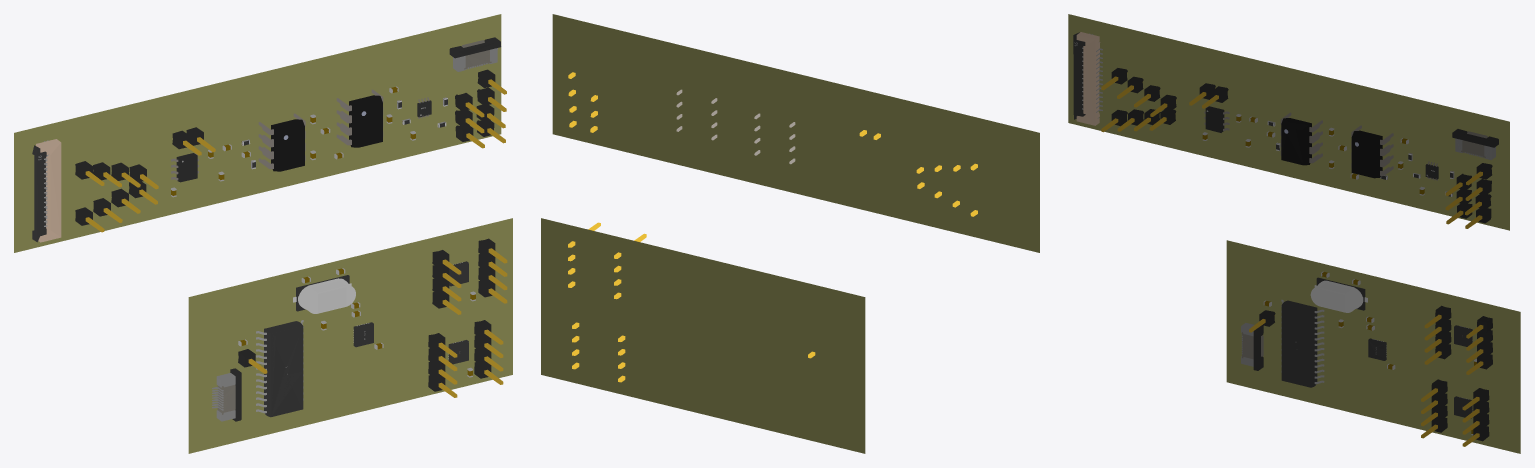
Rendered from OBJ_PCB_Tashe.obj.
3 views of the same model, side by side, from view 1: azimuth 30°, elevation 25°; view 2: azimuth 150°, elevation 25°; view 3: azimuth 330°, elevation 25° (orthographic). The views are drawn at different scales.
Bounding box in the file's own units: 429 × 299 × 45.17.
